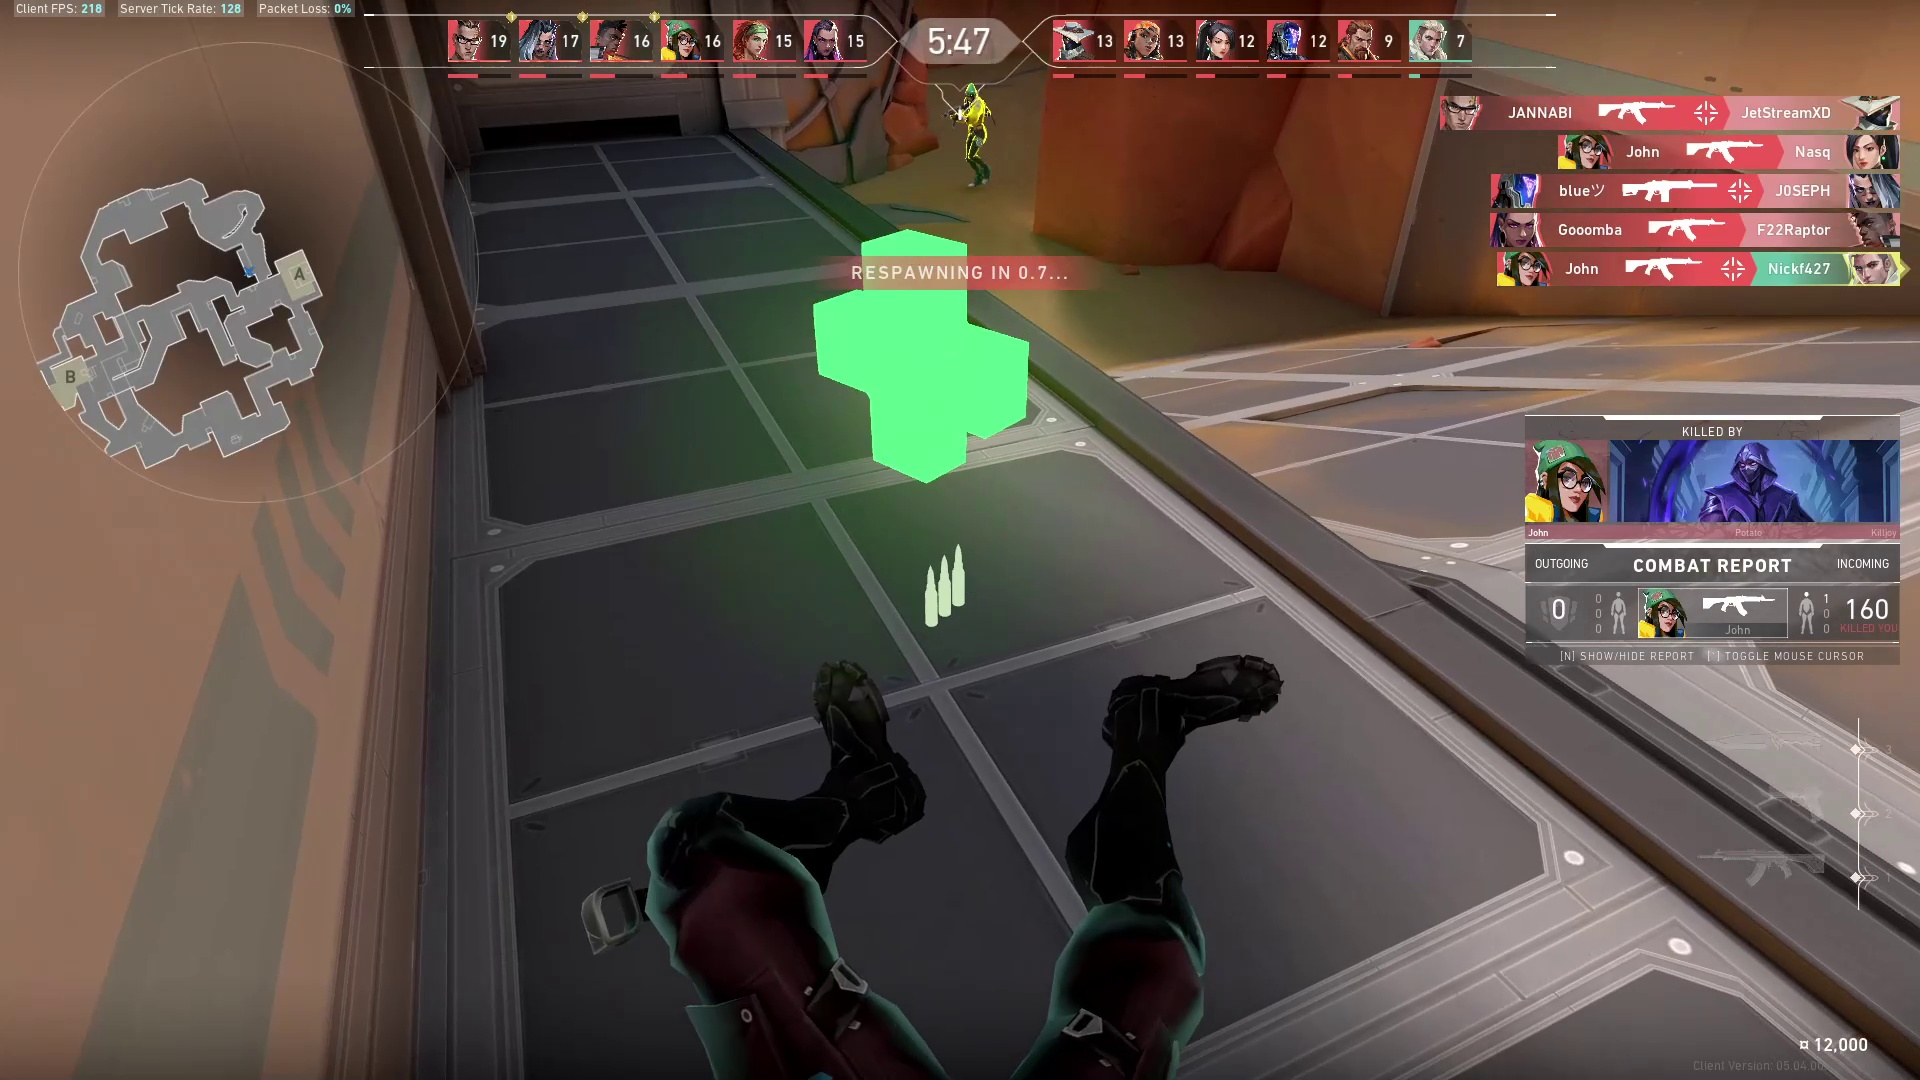enemy_body: (945, 102, 993, 189)
enemy_head: (961, 80, 980, 104)
